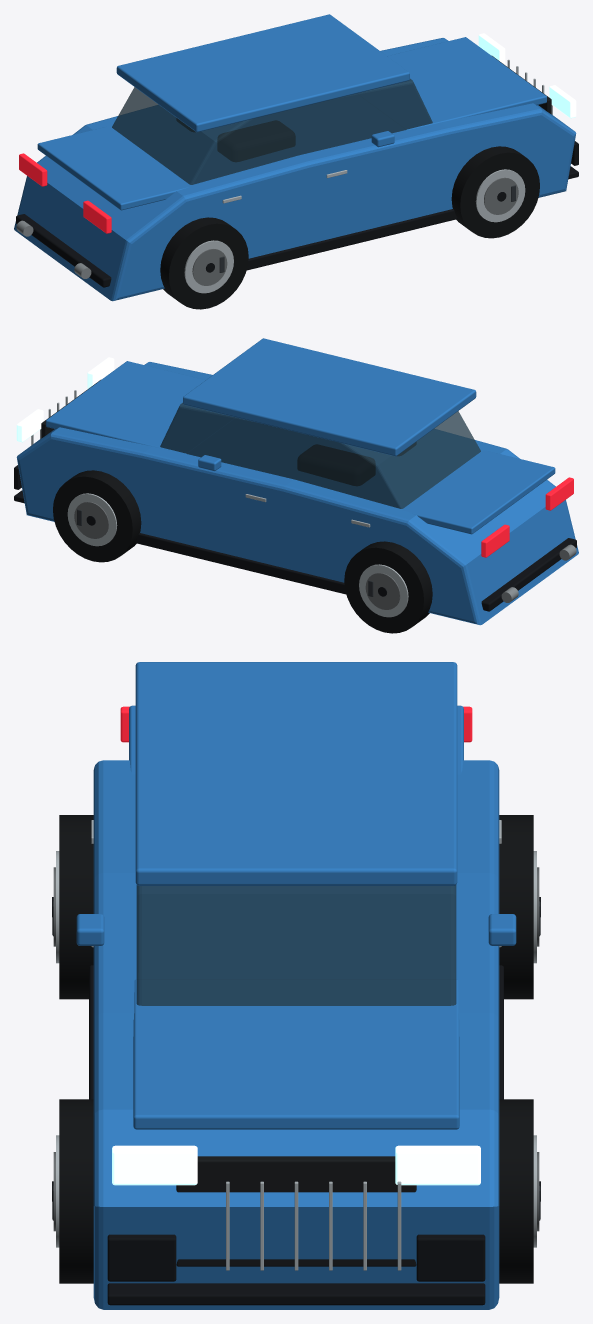
Rendered from ford_explorer_sport_trac.glb.
The picture shows the model from 3 angles, top to bottom: view 1: azimuth 30°, elevation 25°; view 2: azimuth 150°, elevation 25°; view 3: azimuth 270°, elevation 25°; orthographic projection. The views are drawn at different scales.
Parts seen in each view (by area): view 1: sculpted_body, roof, glasshouse, hood_center, rear_deck, rear_right_wheel_tire, front_right_wheel_tire, side_skirt_1, seat_1, rear_diffuser, rear_right_wheel_rim, front_right_wheel_rim (+6 smaller); view 2: sculpted_body, roof, glasshouse, hood_center, rear_deck, rear_left_wheel_tire, front_left_wheel_tire, side_skirt_-1, seat_-1, rear_diffuser, rear_left_wheel_rim, front_left_wheel_rim (+6 smaller); view 3: sculpted_body, roof, hood_center, glasshouse, front_grille, front_splitter, front_left_wheel_tire, front_right_wheel_tire, rear_left_wheel_tire, rear_right_wheel_tire, headlight_right, headlight_left (+5 smaller).
Boxes of the visible parts, x1,y1,x2,y2 form: sculpted_body: [14, 38, 576, 301]; roof: [116, 14, 409, 132]; glasshouse: [112, 78, 432, 184]; hood_center: [358, 37, 546, 129]; rear_deck: [37, 126, 190, 210]; rear_right_wheel_tire: [160, 217, 248, 309]; front_right_wheel_tire: [451, 146, 539, 238]; side_skirt_1: [246, 209, 457, 270]; seat_1: [218, 121, 294, 161]; rear_diffuser: [16, 214, 111, 287]; rear_right_wheel_rim: [184, 240, 233, 293]; front_right_wheel_rim: [475, 169, 525, 222]; sculpted_body: [16, 362, 578, 625]; roof: [183, 338, 476, 456]; glasshouse: [160, 402, 480, 508]; hood_center: [46, 361, 234, 453]; rear_deck: [402, 450, 555, 534]; rear_left_wheel_tire: [344, 541, 432, 633]; front_left_wheel_tire: [53, 470, 141, 562]; side_skirt_-1: [135, 533, 346, 594]; seat_-1: [298, 445, 374, 485]; rear_diffuser: [481, 538, 576, 611]; rear_left_wheel_rim: [359, 564, 408, 617]; front_left_wheel_rim: [67, 493, 117, 546]; sculpted_body: [93, 760, 499, 1309]; roof: [135, 662, 457, 885]; hood_center: [133, 979, 459, 1129]; glasshouse: [136, 885, 456, 1005]; front_grille: [176, 1156, 416, 1266]; front_splitter: [107, 1283, 485, 1305]; front_left_wheel_tire: [499, 1099, 533, 1283]; front_right_wheel_tire: [59, 1099, 93, 1283]; rear_left_wheel_tire: [499, 815, 533, 999]; rear_right_wheel_tire: [59, 815, 93, 999]; headlight_right: [112, 1145, 197, 1185]; headlight_left: [395, 1145, 480, 1185].
Size of the model in its own units: 5.24 by 1.73 by 2.28.
